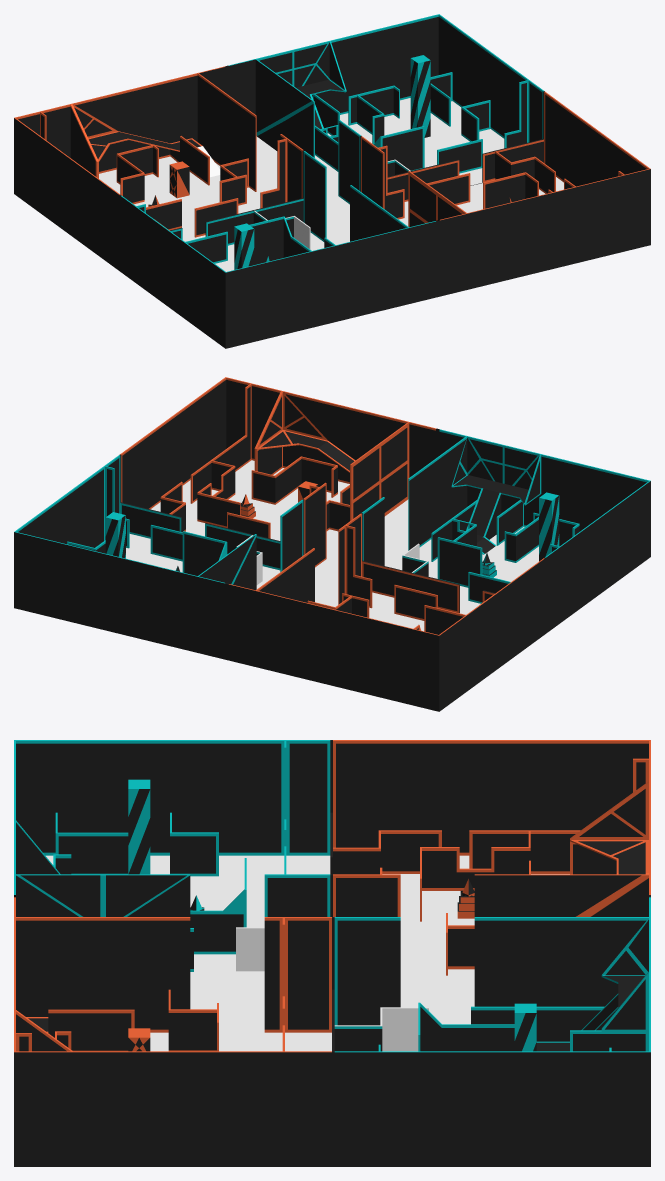
3 views of the same model, one above another, from view 1: azimuth 30°, elevation 25°; view 2: azimuth 150°, elevation 25°; view 3: azimuth 270°, elevation 25° (orthographic). The views are drawn at different scales.
Parts seen in each view (by area): view 1: Model; view 2: Model; view 3: Model.
Part boxes in pixels (x1,y1,x2,y2): Model: [14, 14, 650, 348]; Model: [14, 377, 650, 711]; Model: [14, 740, 650, 1166].
Bounding box in the file's own units: 37.42 × 6.4 × 32.26.
